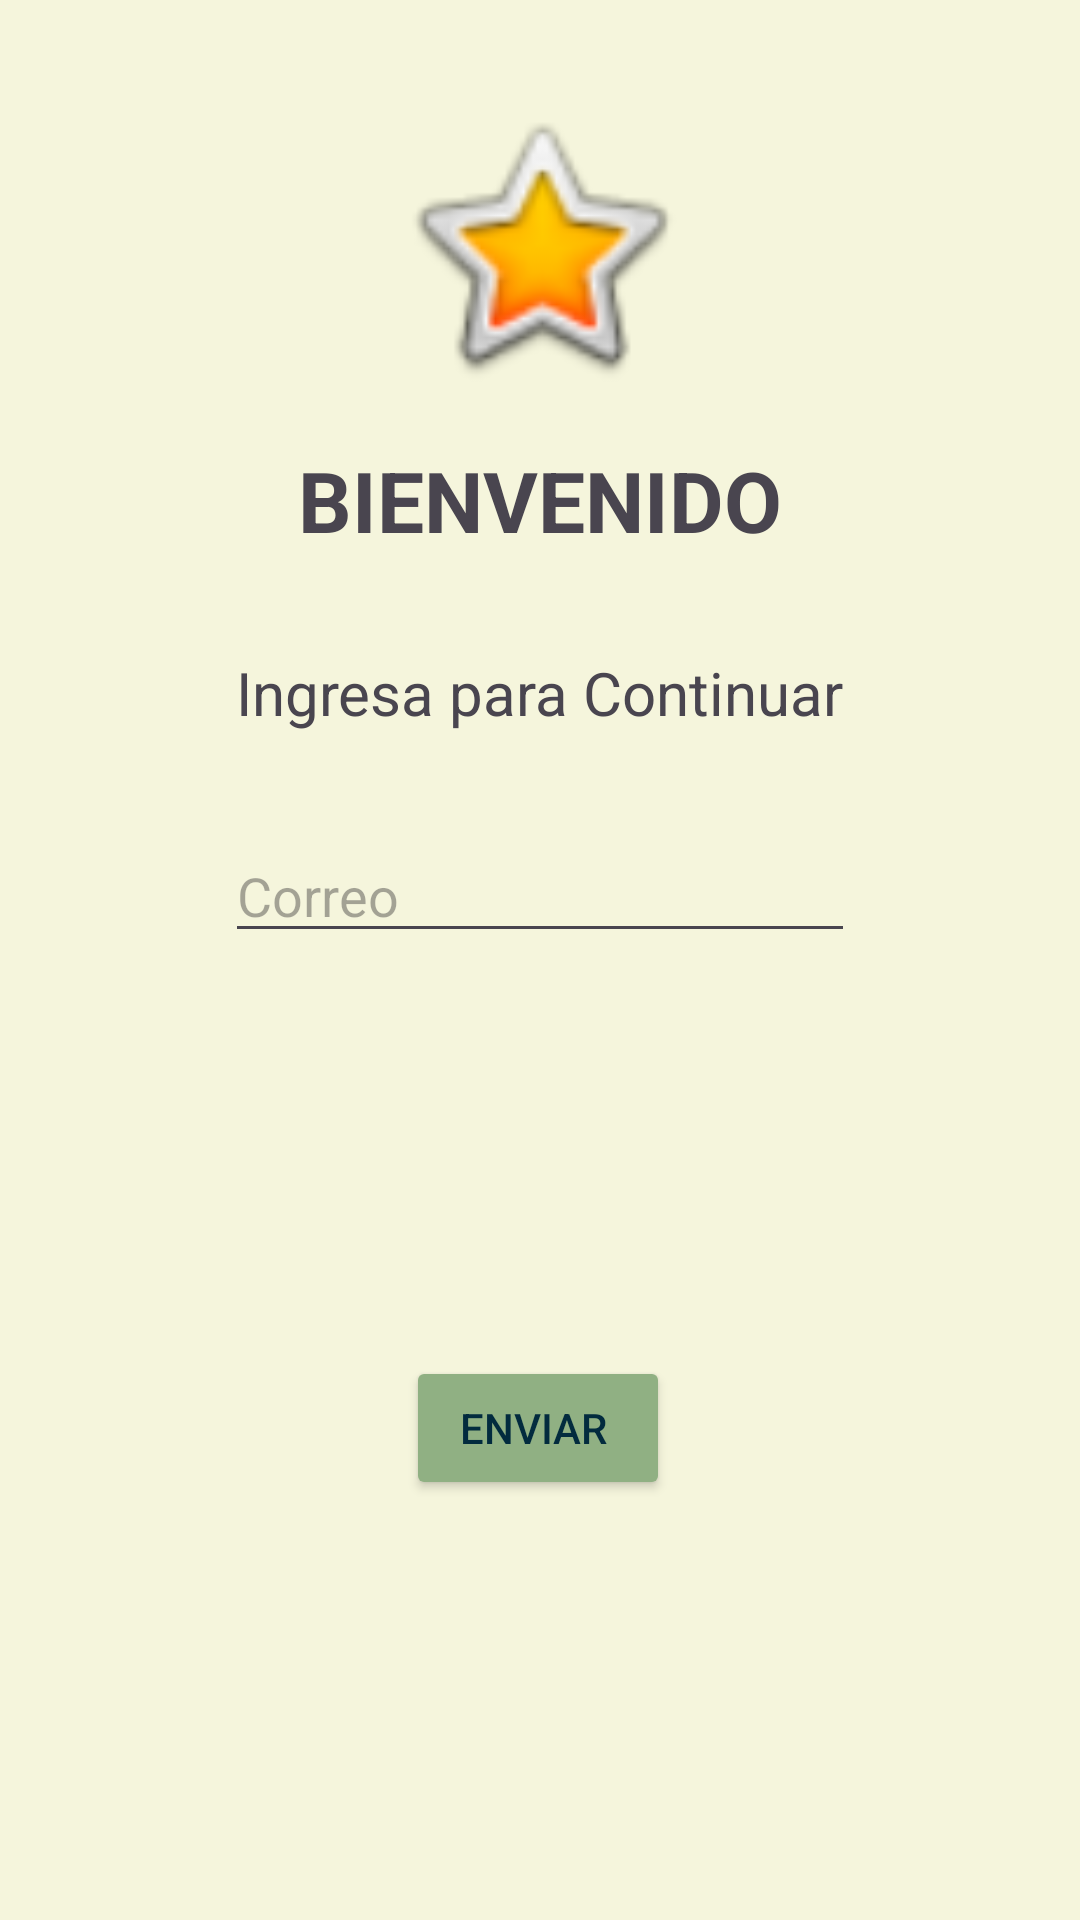

Icon click points for this 1080*1920 phone screenshot, format [x,y]:
star on: [542,248]
